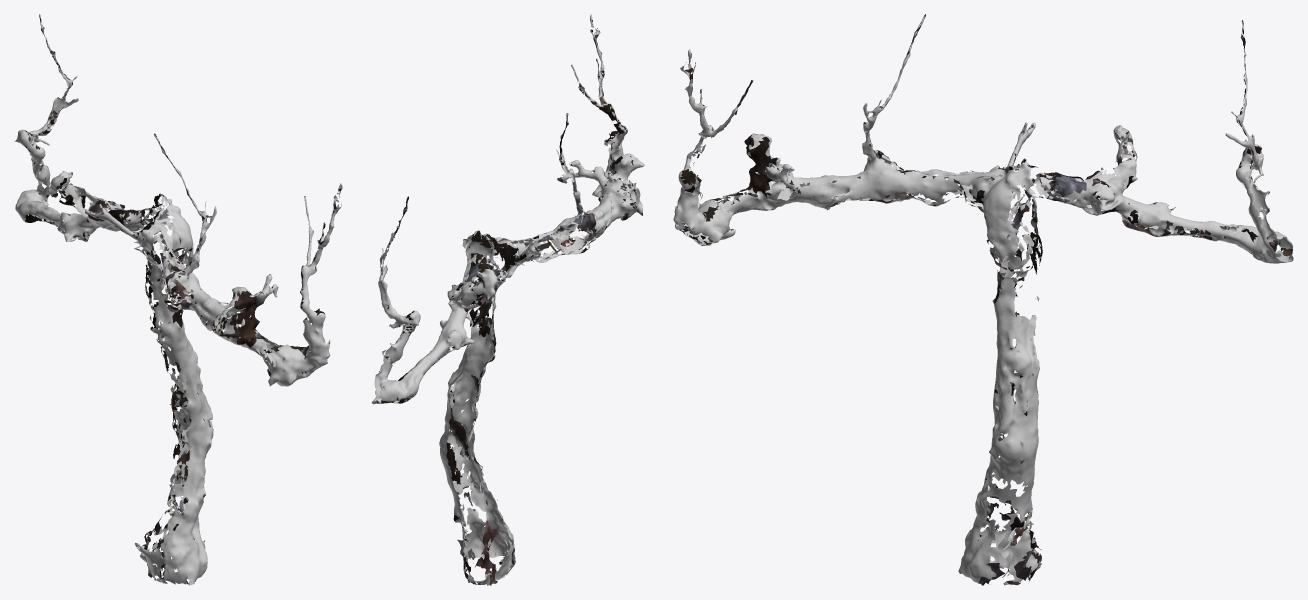
Rendered from Toke_3.obj.
The picture shows the model from 3 angles, left to right: view 1: azimuth 30°, elevation 25°; view 2: azimuth 150°, elevation 25°; view 3: azimuth 270°, elevation 25°; orthographic projection. The views are drawn at different scales.
Size of the model in its own units: 74.9 by 301 by 309.
